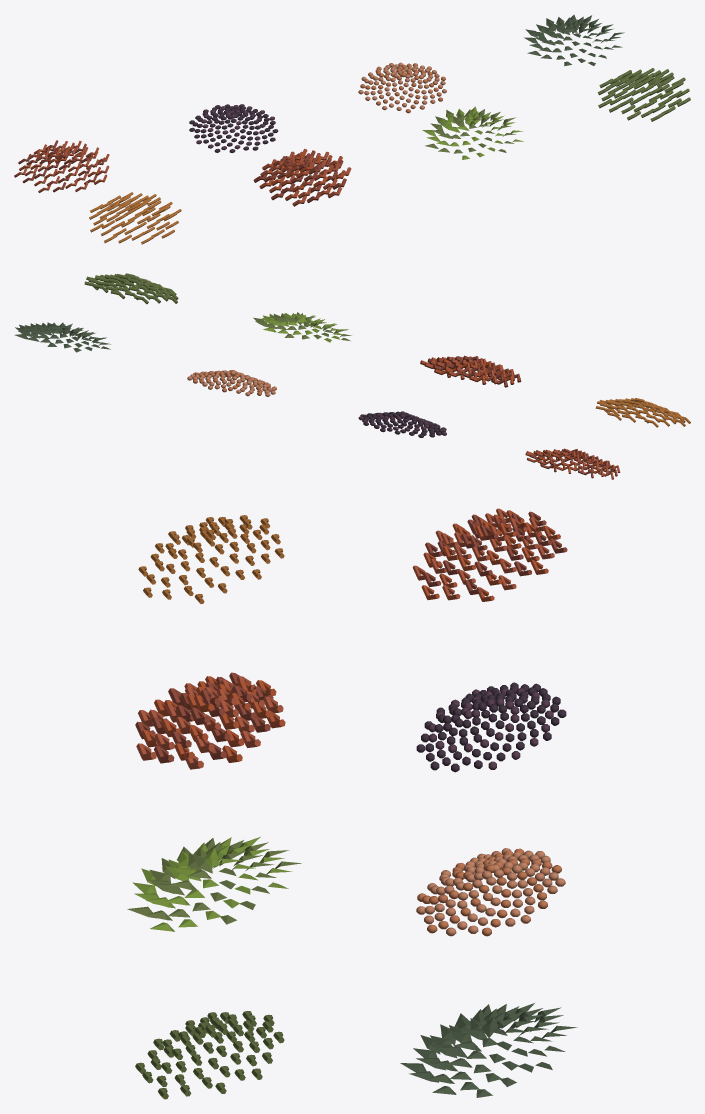
File: salad.glb
3 views of the same model, one above another, from view 1: azimuth 30°, elevation 25°; view 2: azimuth 150°, elevation 25°; view 3: azimuth 270°, elevation 25° (orthographic). The views are drawn at different scales.
Visible parts, largest first — view 1: salad; view 2: salad; view 3: salad.
Part boxes in pixels (x1=…): salad: x1=14, y1=14, x2=690, y2=244; salad: x1=14, y1=273, x2=690, y2=479; salad: x1=127, y1=508, x2=577, y2=1099.
Size of the model in its own units: 2.06 by 0.0917 by 0.6682.
